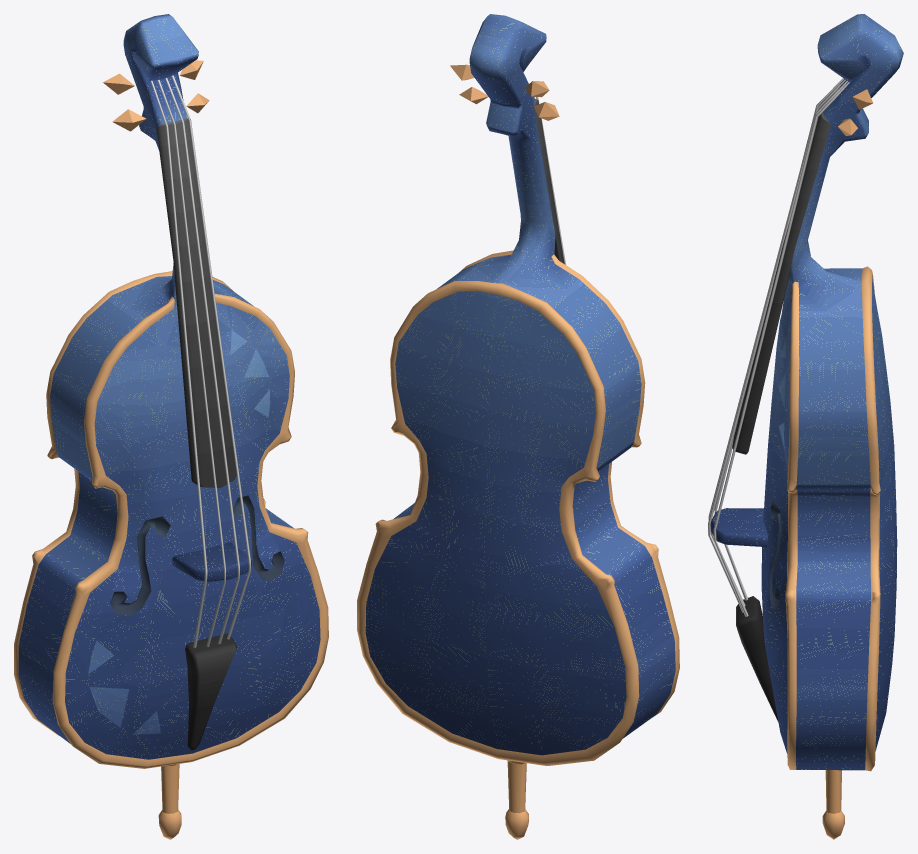
Rendered from CharSkyKid_Prop_AP23CelloBasic__Prop_AP23CelloBasic_Inverted.glb.
The picture shows the model from 3 angles, left to right: view 1: azimuth 30°, elevation 25°; view 2: azimuth 150°, elevation 25°; view 3: azimuth 270°, elevation 25°; orthographic projection. The views are drawn at different scales.
Parts seen in each view (by area): view 1: CharSkyKid_Prop_AP23CelloBasic; view 2: CharSkyKid_Prop_AP23CelloBasic; view 3: CharSkyKid_Prop_AP23CelloBasic.
Part boxes in pixels (bbox=[...]): CharSkyKid_Prop_AP23CelloBasic: bbox=[14, 14, 328, 839]; CharSkyKid_Prop_AP23CelloBasic: bbox=[357, 14, 679, 839]; CharSkyKid_Prop_AP23CelloBasic: bbox=[708, 14, 903, 839].
Size of the model in its own units: 4.77 by 13.47 by 2.92.
1 material, 1 textured.
